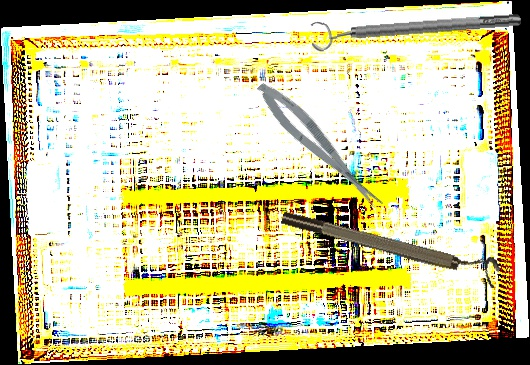Fixation Ring: (279, 198, 503, 289), (310, 4, 522, 53)
Micro Scissor: (250, 74, 388, 219)
